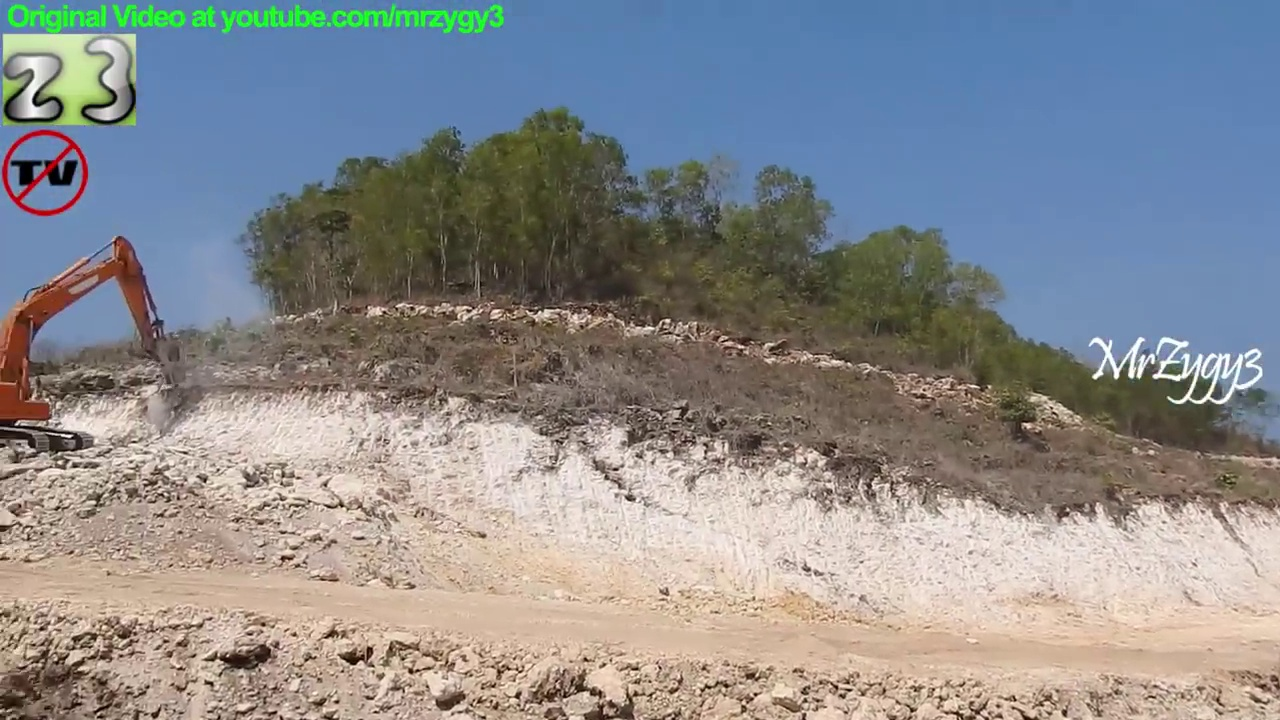excavator: (1, 228, 191, 464)
